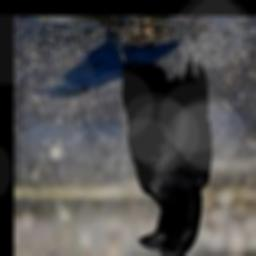Crow: (114, 26, 211, 256)
